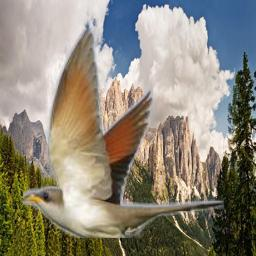Cuckoo: (23, 28, 224, 238)
